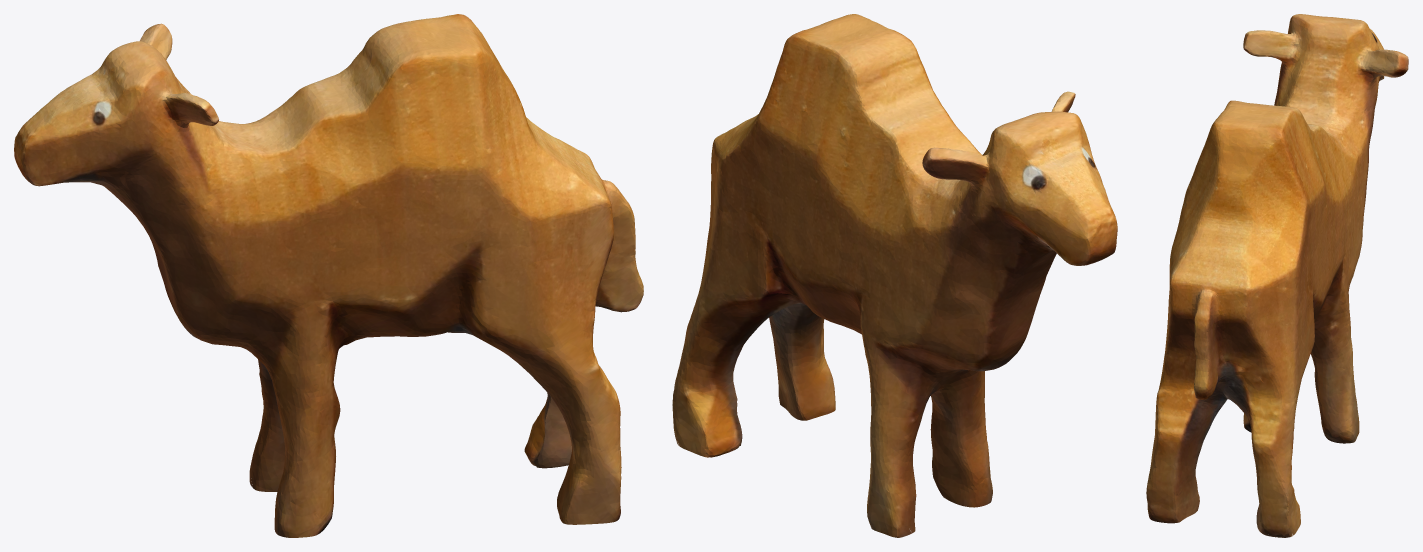
File: camel.gltf
The picture shows the model from 3 angles, left to right: view 1: azimuth 30°, elevation 25°; view 2: azimuth 150°, elevation 25°; view 3: azimuth 270°, elevation 25°; orthographic projection. The views are drawn at different scales.
Bounding box in the file's own units: 0.4715 × 0.4006 × 0.2623.
Materials: 1 (1 with a texture image).
